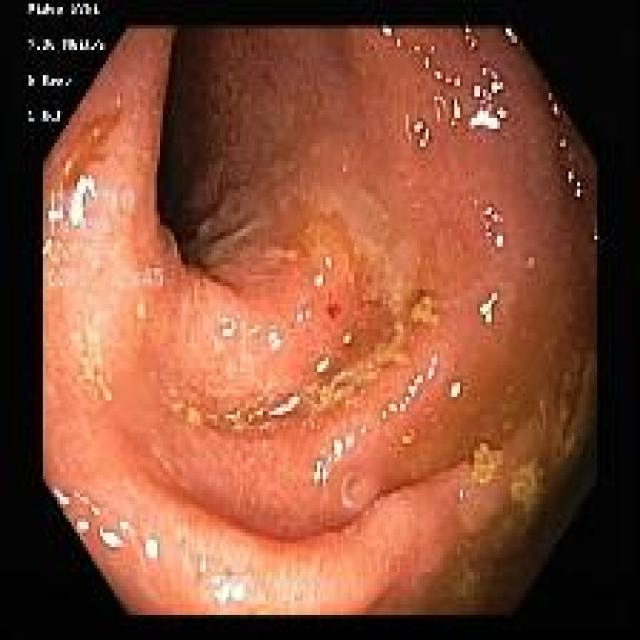ulcerative-colitis: (42, 28, 596, 614)
